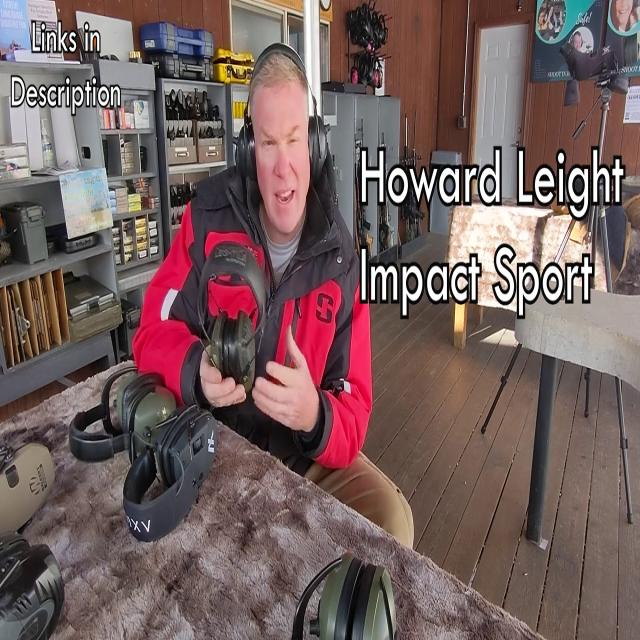earmuff: (232, 114, 260, 184), (306, 109, 332, 175)
